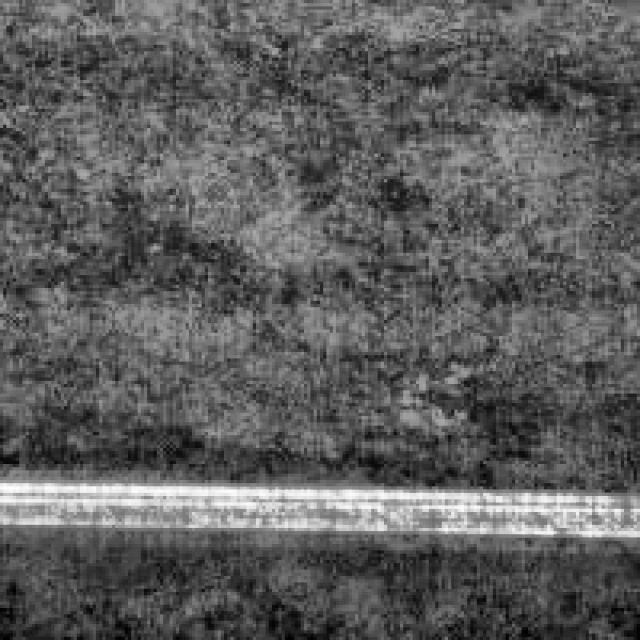Inclusion: (0, 473, 618, 538)
